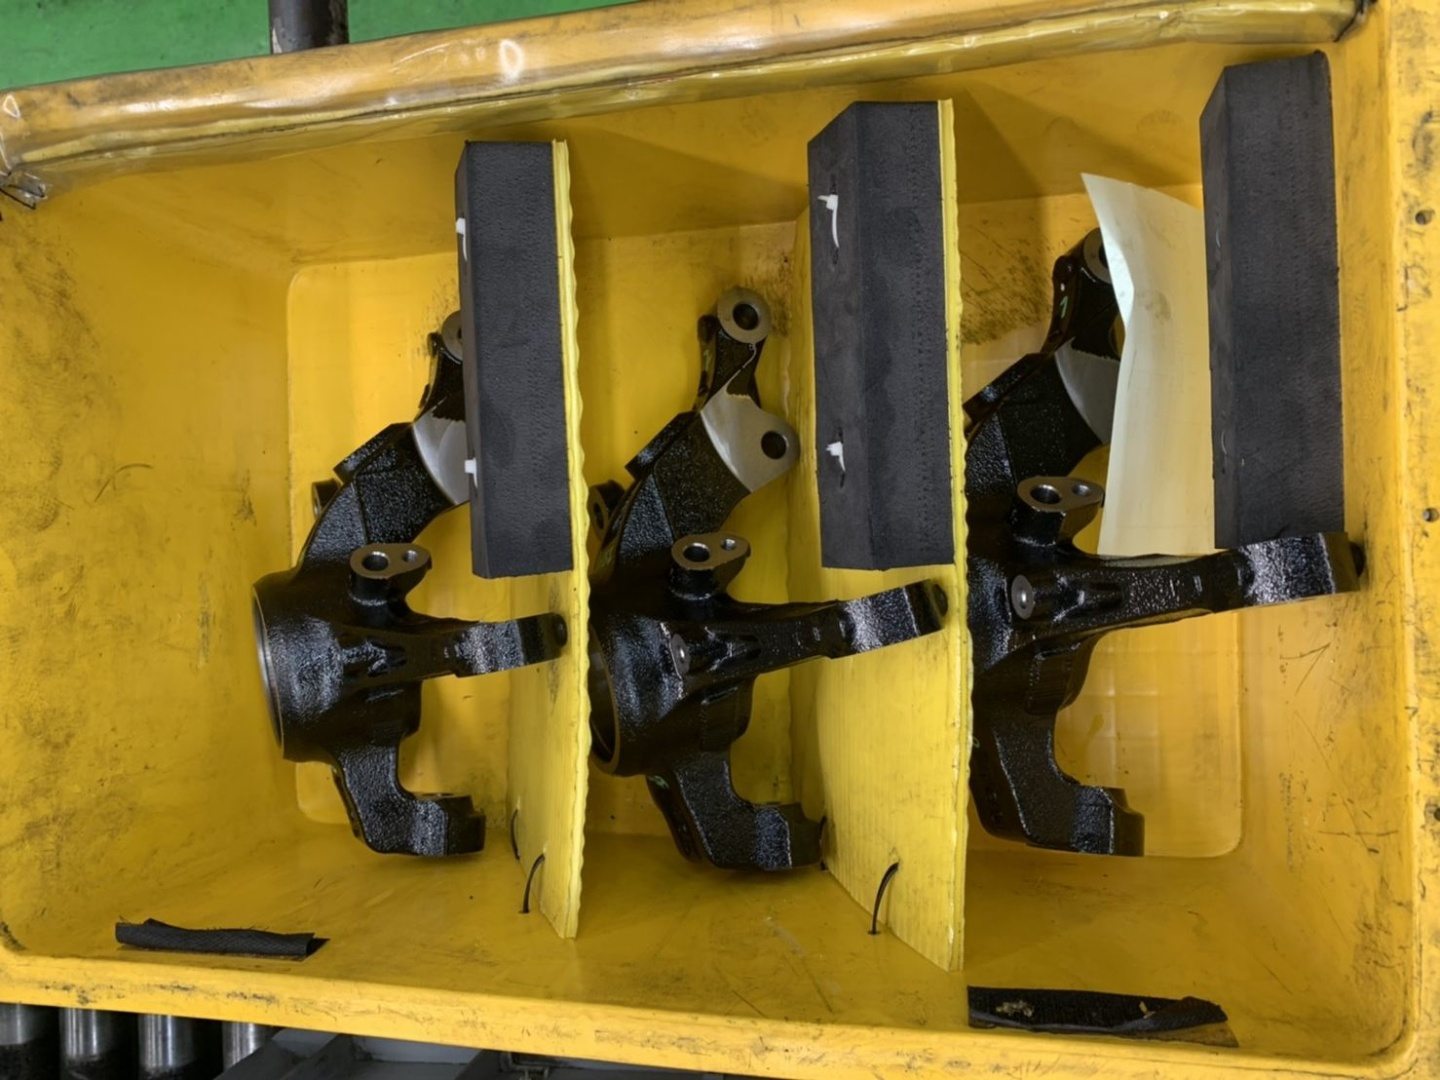abs-lh: (958, 218, 1377, 867), (564, 277, 956, 881), (239, 292, 574, 877)
